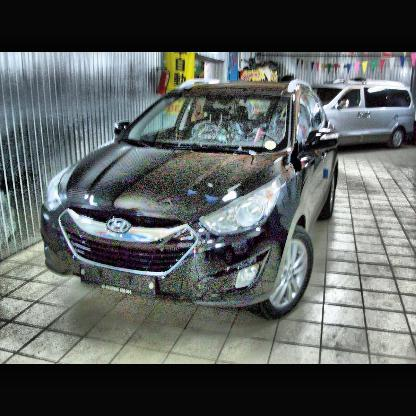Hyundai Tucson SUV 2012: (39, 76, 341, 330)
